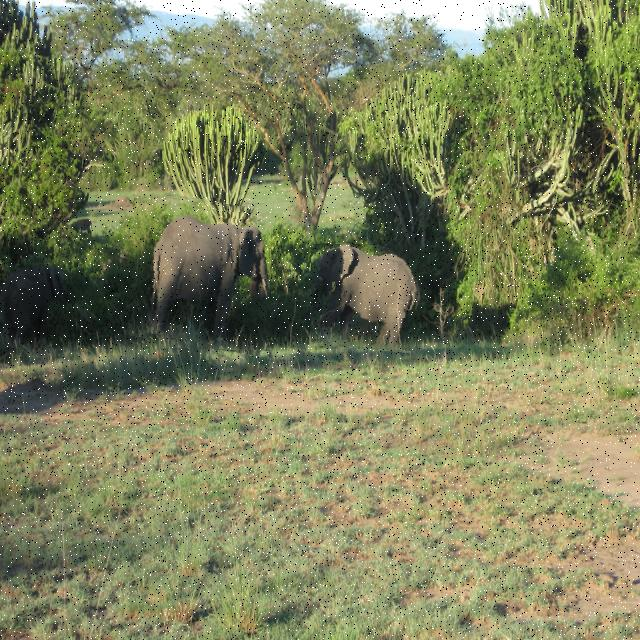elephant: (134, 198, 271, 351), (311, 244, 423, 351)
